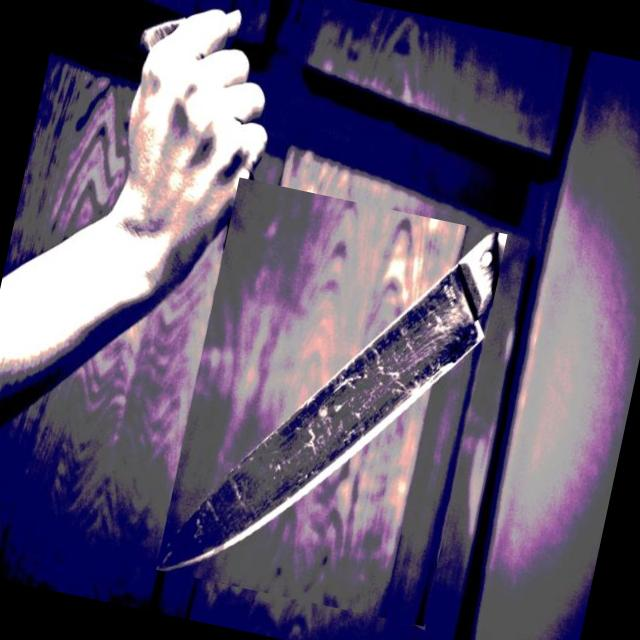Knife: (156, 232, 497, 572)
